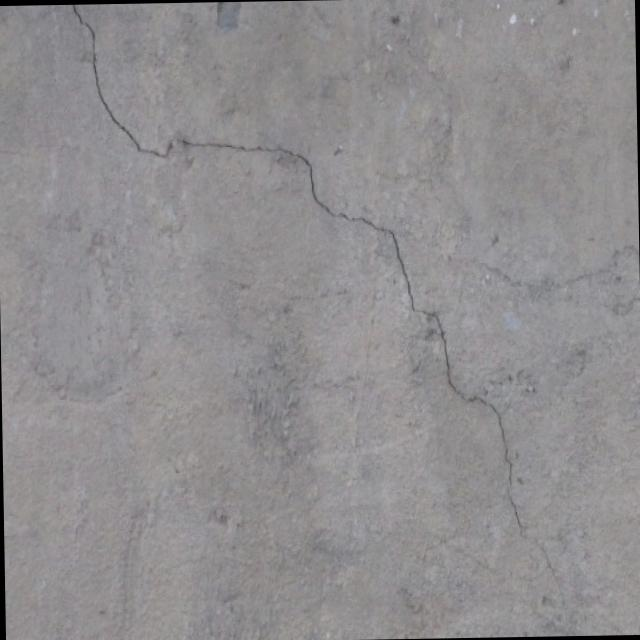crack: (69, 0, 638, 305), (408, 296, 575, 628)
